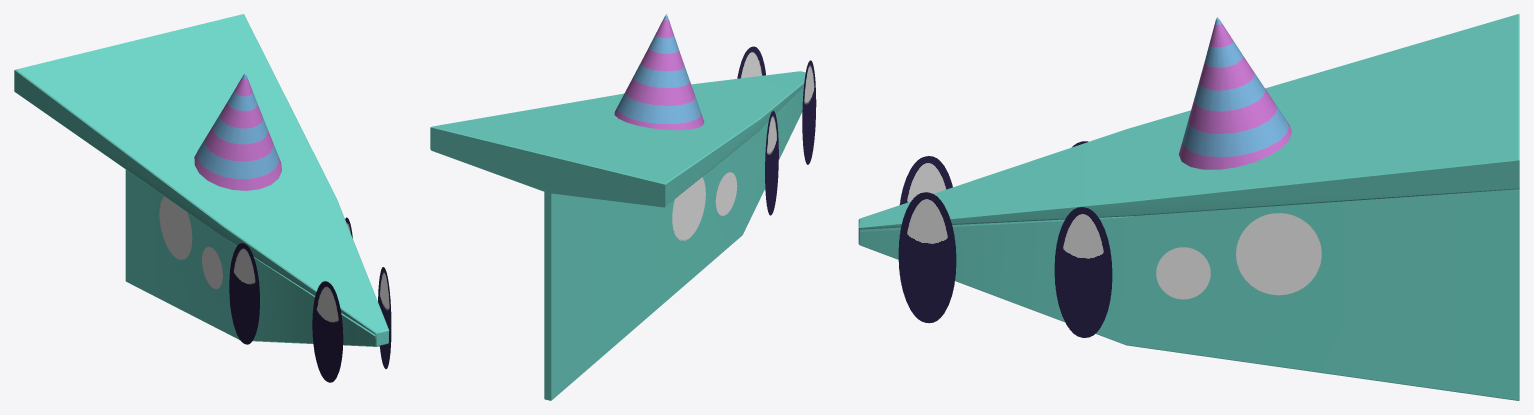
The model's file is SlimePlane.fbx.
The picture shows the model from 3 angles, left to right: view 1: azimuth 30°, elevation 25°; view 2: azimuth 150°, elevation 25°; view 3: azimuth 270°, elevation 25°; orthographic projection. The views are drawn at different scales.
Visible parts, largest first — view 1: BodyGEO, Hat_GEO, Eye_L, Eye_R, ShineBig, ShineSmall; view 2: BodyGEO, Hat_GEO, Eye_L, ShineBig, Eye_R, ShineSmall; view 3: BodyGEO, Hat_GEO, Eye_L, Eye_R, ShineBig, ShineSmall.
Part boxes in pixels (box(x1,y1,x2,y2)): BodyGEO: box(14, 14, 389, 346); Hat_GEO: box(194, 73, 281, 190); Eye_L: box(312, 267, 391, 382); Eye_R: box(229, 217, 352, 344); ShineBig: box(159, 196, 192, 259); ShineSmall: box(202, 246, 222, 289); BodyGEO: box(430, 71, 805, 400); Hat_GEO: box(614, 14, 704, 130); Eye_L: box(737, 46, 816, 164); ShineBig: box(672, 177, 705, 240); Eye_R: box(765, 111, 778, 215); ShineSmall: box(715, 172, 737, 215); BodyGEO: box(858, 14, 1519, 400); Hat_GEO: box(1179, 17, 1291, 169); Eye_L: box(898, 156, 956, 323); Eye_R: box(1054, 141, 1112, 337); ShineBig: box(1236, 213, 1321, 295); ShineSmall: box(1156, 247, 1210, 299).
Size of the model in its own units: 62.68 by 76.48 by 120.
